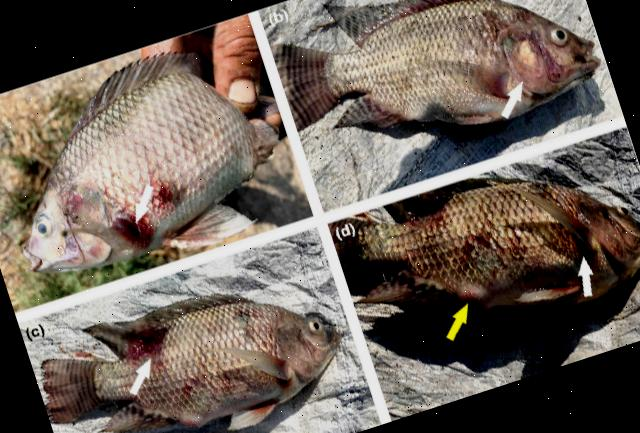Aeromonas Septicemia: (22, 52, 278, 272), (23, 52, 278, 271), (273, 0, 600, 129), (41, 293, 342, 433), (272, 0, 601, 128), (273, 0, 600, 128), (273, 0, 601, 127), (42, 294, 341, 432), (42, 294, 340, 432), (330, 178, 640, 310), (338, 181, 640, 309), (339, 181, 640, 309)
